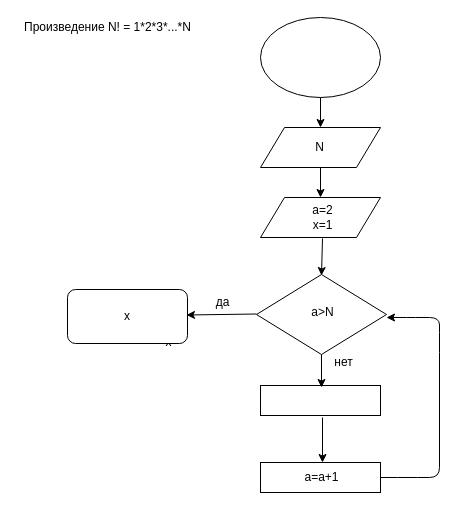
Image size: 465x510. Some labels were removed from this diagram. The centre of each missing label's shape, as x and y in pixels:
"x=x*a" goes at point 320,400.
"Начало" goes at point 320,57.
